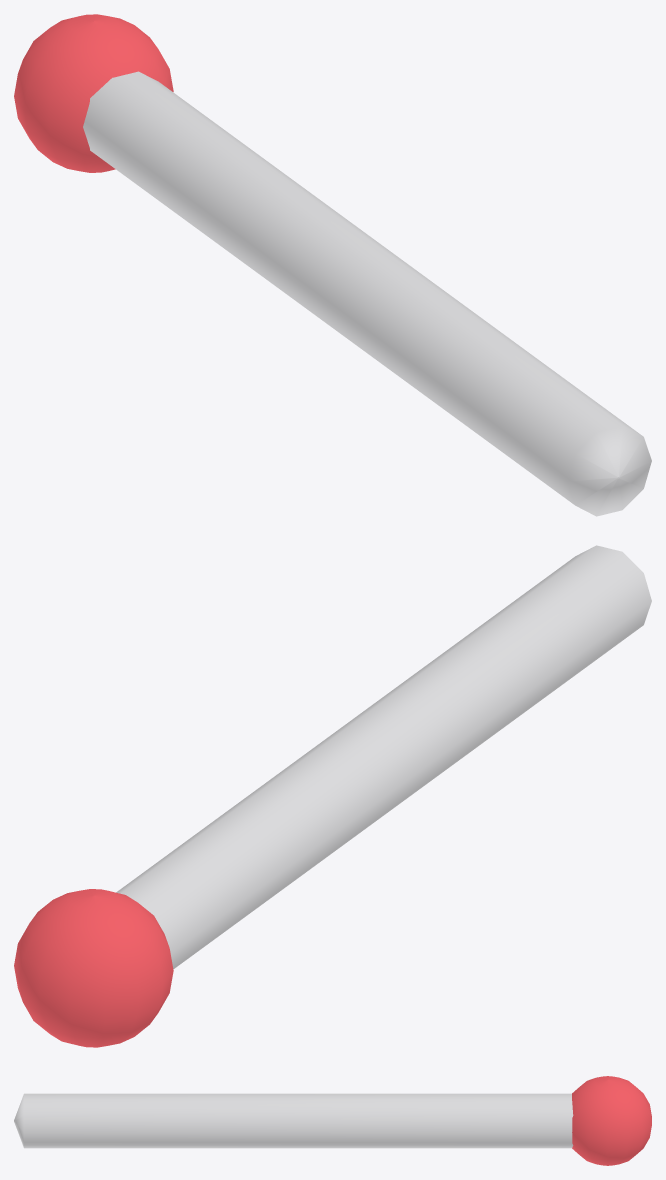
File: thermometer.glb
3 renders of one model, top to bottom at view 1: azimuth 30°, elevation 25°; view 2: azimuth 150°, elevation 25°; view 3: azimuth 270°, elevation 25°, orthographic. The views are drawn at different scales.
Visible parts, largest first — view 1: thermometer; view 2: thermometer; view 3: thermometer.
Part boxes in pixels (x1=…): thermometer: x1=14, y1=14, x2=651, y2=516; thermometer: x1=14, y1=545, x2=651, y2=1047; thermometer: x1=14, y1=1076, x2=651, y2=1165.
Bounding box in the file's own units: 0.018 × 0.018 × 0.1268.
